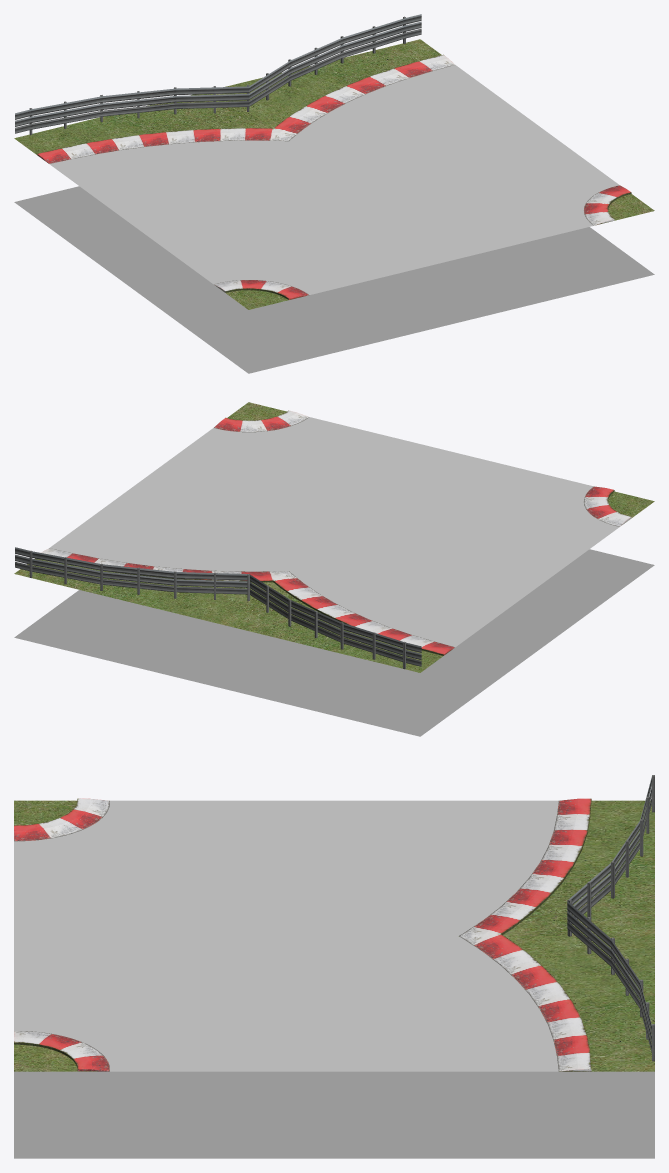
The model's file is Track_Split_B_Mobile.fbx.
3 renders of one model, top to bottom at view 1: azimuth 30°, elevation 25°; view 2: azimuth 150°, elevation 25°; view 3: azimuth 270°, elevation 25°, orthographic. The views are drawn at different scales.
Parts seen in each view (by area): view 1: Road, Snap_Plane_Invisible, Grass, Rail, Curb_C, Curb_A, Curb_B; view 2: Road, Snap_Plane_Invisible, Grass, Rail, Curb_C, Curb_A, Curb_B; view 3: Road, Snap_Plane_Invisible, Grass, Curb_C, Rail, Curb_B, Curb_A.
Part boxes in pixels (box(x1,y1,x2,y2)): Road: box(49, 65, 619, 294); Snap_Plane_Invisible: box(14, 186, 654, 373); Grass: box(14, 39, 654, 309); Rail: box(15, 14, 421, 135); Curb_C: box(37, 54, 454, 163); Curb_A: box(584, 185, 631, 225); Curb_B: box(214, 280, 309, 299); Road: box(49, 417, 619, 647); Snap_Plane_Invisible: box(14, 549, 654, 736); Grass: box(14, 402, 654, 672); Rail: box(15, 547, 421, 669); Curb_C: box(41, 548, 454, 655); Curb_A: box(214, 410, 308, 432); Curb_B: box(584, 486, 631, 526); Road: box(14, 800, 558, 1071); Snap_Plane_Invisible: box(14, 1071, 654, 1158); Grass: box(14, 800, 654, 1071); Curb_C: box(459, 798, 591, 1071); Rail: box(567, 775, 654, 1061); Curb_B: box(14, 798, 109, 841); Curb_A: box(14, 1031, 109, 1071).
Bounding box in the file's own units: 20 × 4.24 × 20.
